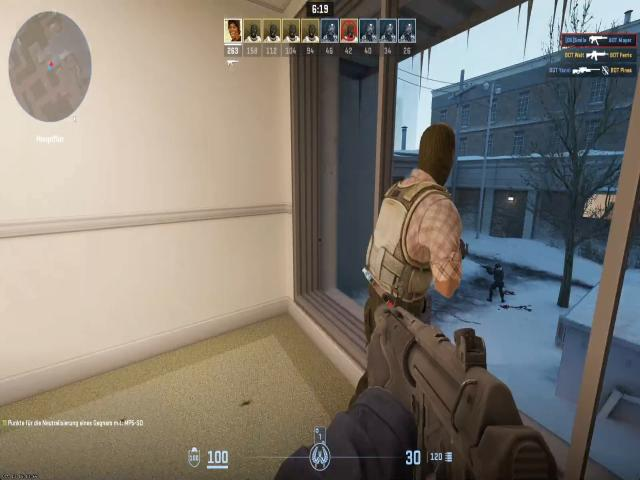CT: (491, 261, 506, 287)
CT-Head: (493, 262, 502, 274)
T: (368, 125, 468, 310)
T-Head: (406, 115, 467, 188)
